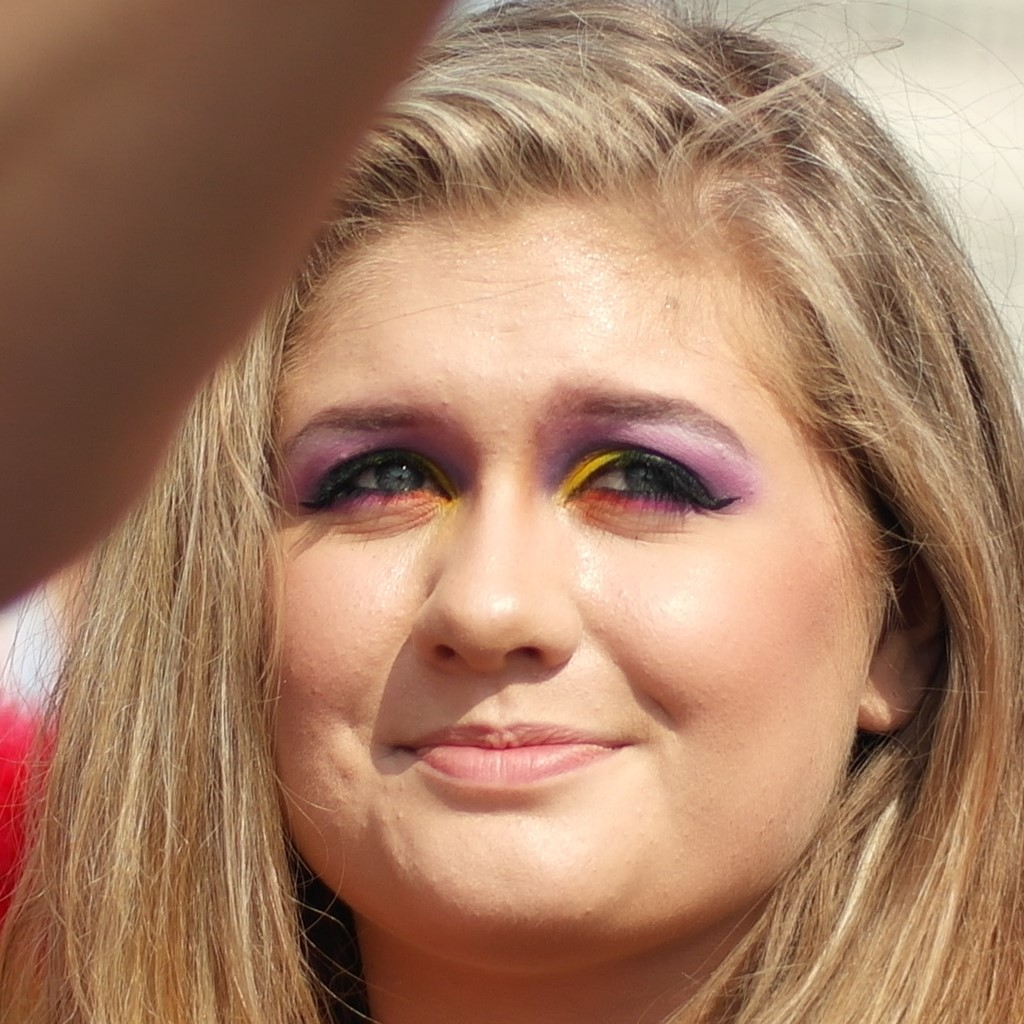sin_mascara: (261, 118, 903, 946)
